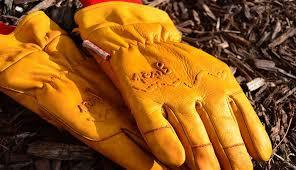gloves: (74, 1, 272, 170), (1, 9, 170, 169)
